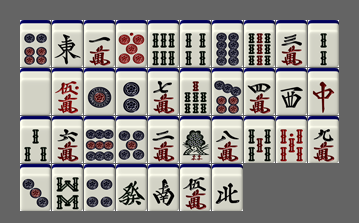0m: (52, 68, 83, 115)
0p: (116, 20, 147, 67)
0s: (276, 116, 307, 163)
1m: (84, 20, 115, 67)
1p: (84, 68, 115, 115)
1s: (180, 116, 211, 163)
1z: (52, 20, 83, 67)
2m: (148, 116, 179, 163)
2p: (116, 68, 147, 115)
2s: (308, 20, 339, 67)
2z: (148, 164, 179, 211)
3m: (276, 20, 307, 67)
3p: (20, 164, 51, 211)
3s: (20, 116, 51, 163)
3z: (276, 68, 307, 115)
4m: (244, 68, 275, 115)
4p: (84, 164, 115, 211)
4s: (180, 20, 211, 67)
4z: (212, 164, 243, 211)
5m: (180, 164, 211, 211)
5p: (116, 116, 147, 163)
5s: (244, 116, 275, 163)
5z: (20, 68, 51, 115)
6m: (52, 116, 83, 163)
6p: (20, 20, 51, 67)
6s: (148, 20, 179, 67)
6z: (116, 164, 147, 211)
7m: (148, 68, 179, 115)
7p: (212, 68, 243, 115)
7s: (180, 68, 211, 115)
7z: (308, 68, 339, 115)
8m: (212, 116, 243, 163)
8p: (212, 20, 243, 67)
8s: (52, 164, 83, 211)
9m: (308, 116, 339, 163)
9p: (84, 116, 115, 163)
9s: (244, 20, 275, 67)
